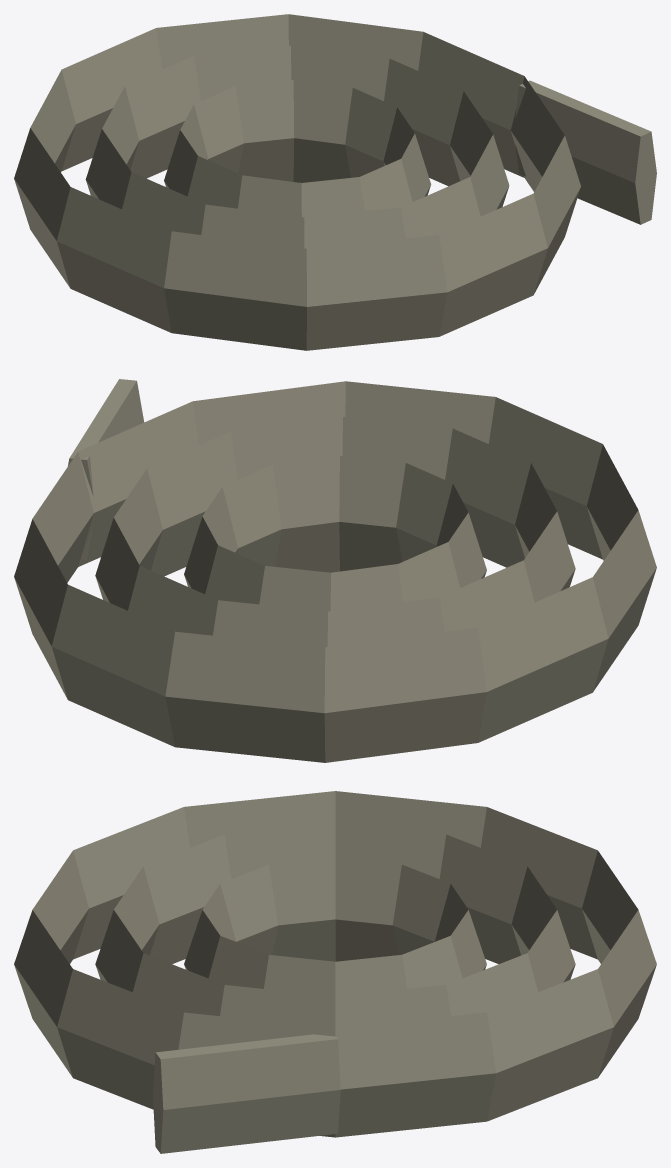
The model's file is bell_rope.glb.
3 views of the same model, one above another, from view 1: azimuth 30°, elevation 25°; view 2: azimuth 150°, elevation 25°; view 3: azimuth 270°, elevation 25° (orthographic). The views are drawn at different scales.
Parts seen in each view (by area): view 1: bell_rope; view 2: bell_rope; view 3: bell_rope.
Boxes of the visible parts, bbox=[...] form: bell_rope: bbox=[14, 14, 656, 350]; bell_rope: bbox=[14, 379, 656, 762]; bell_rope: bbox=[14, 791, 656, 1153].
Bounding box in the file's own units: 0.96 × 0.18 × 0.96.
